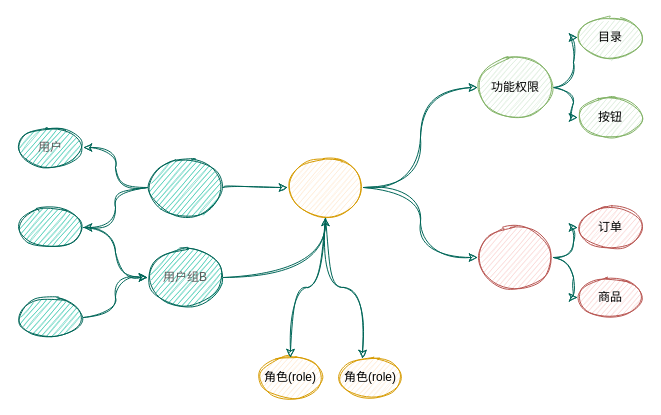
The diagram is 661 pixels wide and 415 high, and some of its shapes have lost their labels. The box of each missing label's shape, as (x1, y1, x2, y2) in pixels:
数据权限: (476, 226, 554, 288)
用户B: (16, 206, 84, 248)
用户C: (16, 296, 84, 338)
用户组A: (146, 156, 224, 218)
角色组(role): (286, 156, 364, 218)
